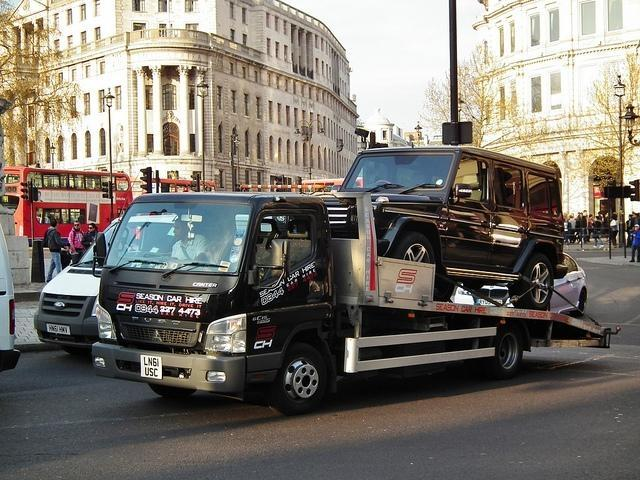bus: (6, 170, 132, 244), (130, 176, 216, 198)
car: (336, 146, 563, 312), (32, 216, 124, 357), (475, 251, 589, 314), (0, 232, 19, 368)
truck: (90, 193, 610, 414)
